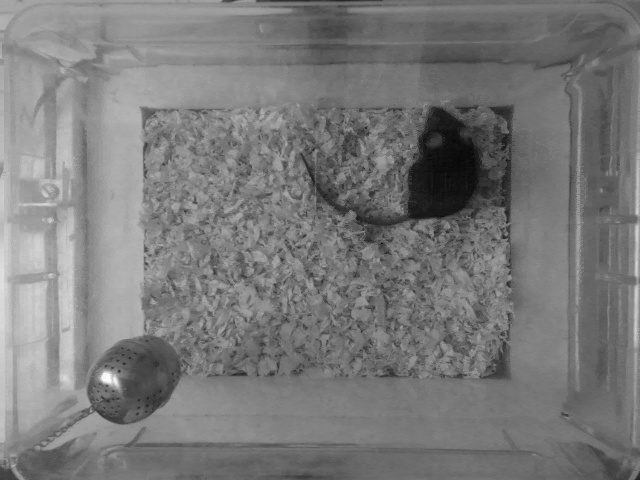mice: (299, 99, 492, 224)
